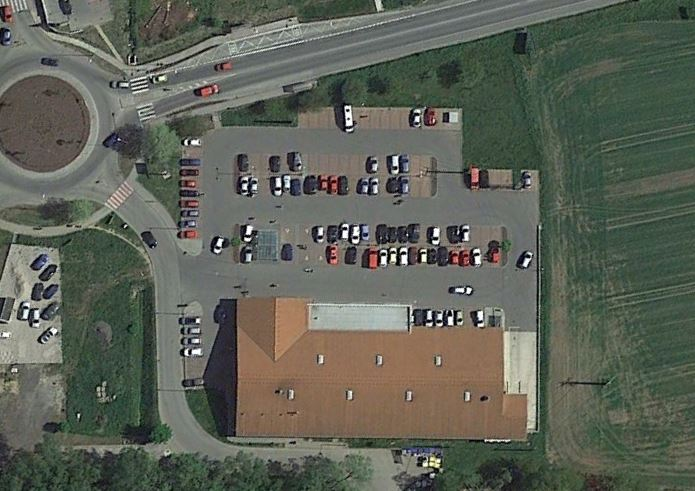shopping_center: (225, 289, 537, 445)
